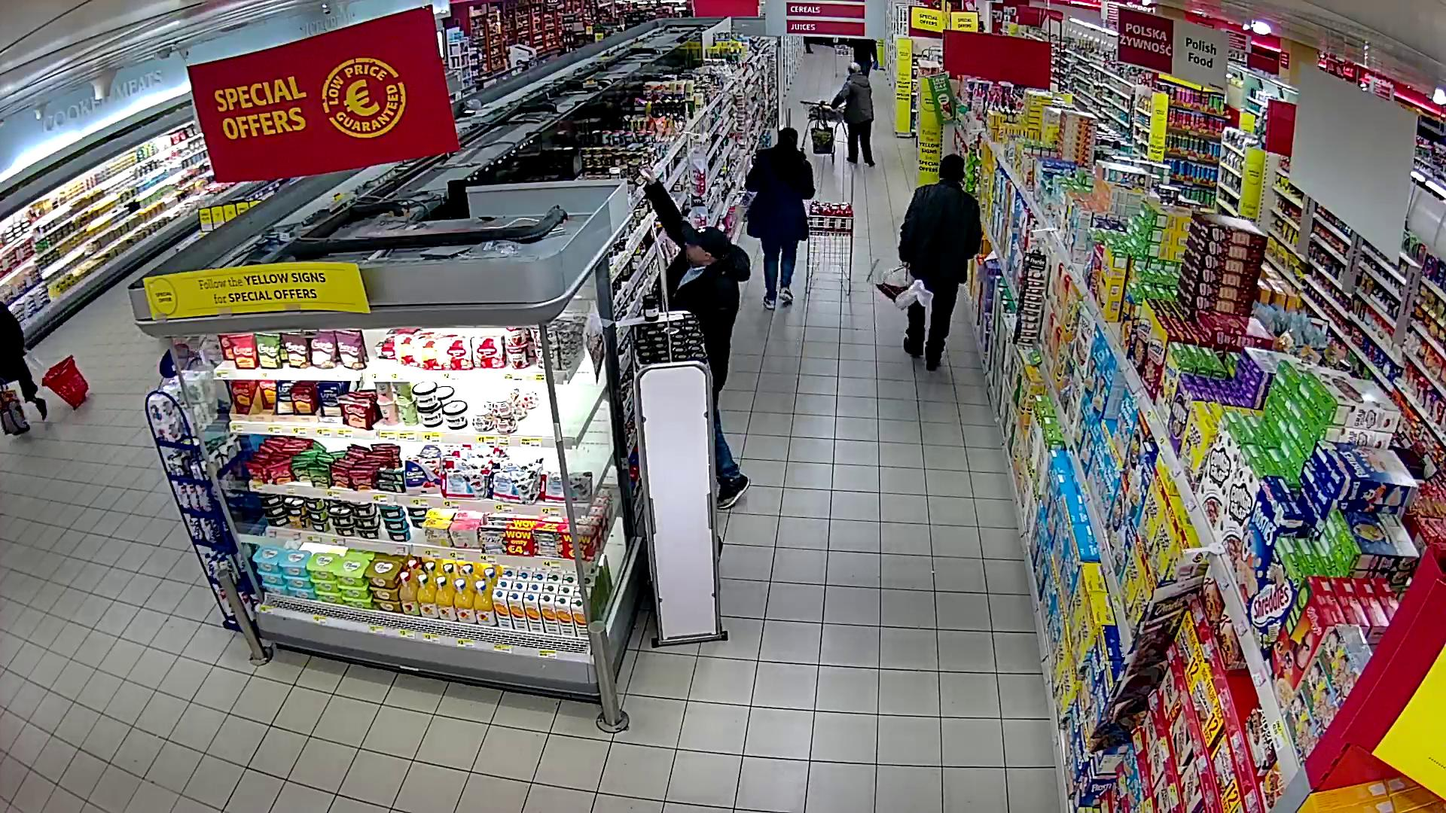filled-basket: (867, 256, 920, 309)
person: (898, 155, 982, 370)
person-with-filled-basket-trolly: (869, 154, 981, 369)
